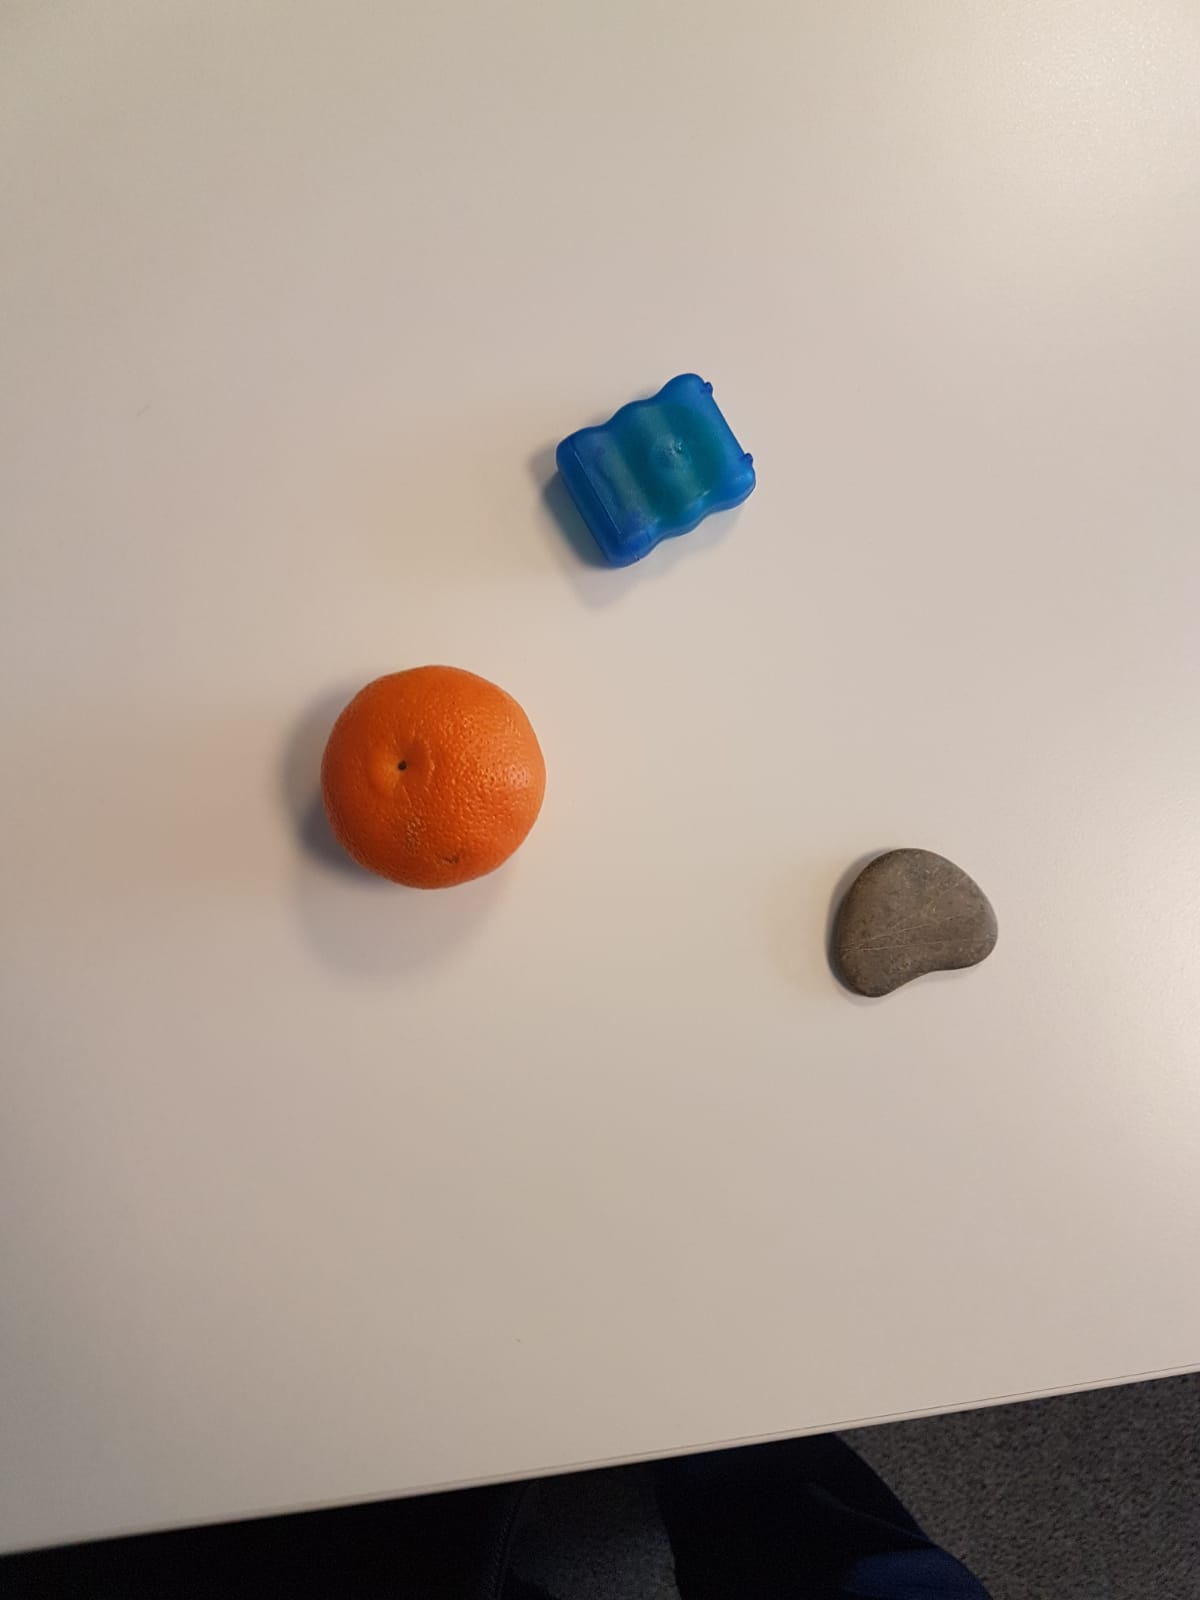Box: (545, 370, 764, 569)
Orange: (324, 666, 550, 892)
Stone: (824, 843, 1002, 999)
